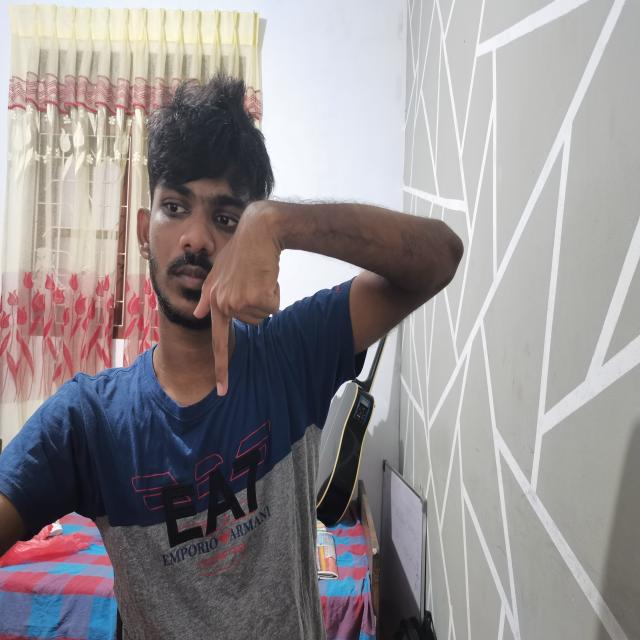Yes: (186, 186, 302, 402)
